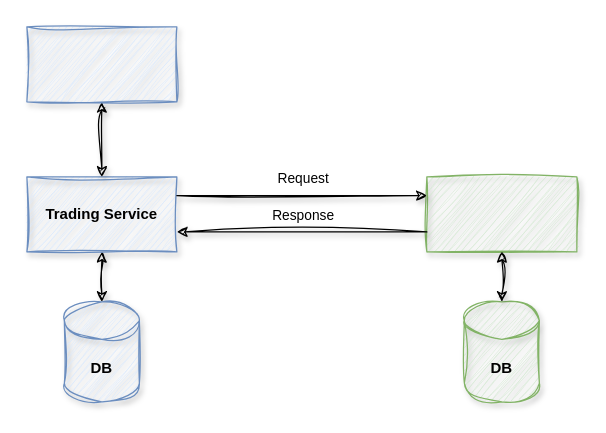
Some shapes in this 606 by 433 pixel diagram are drawn without their labels. The shapes that lost their labels are listed below. From the top down, each one's centre as x and y in pixels, then its label:
At (102,66): "Client".
At (502,216): "Forex Service".
